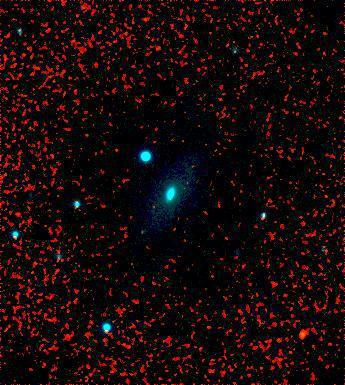star: (287, 317, 317, 347)
